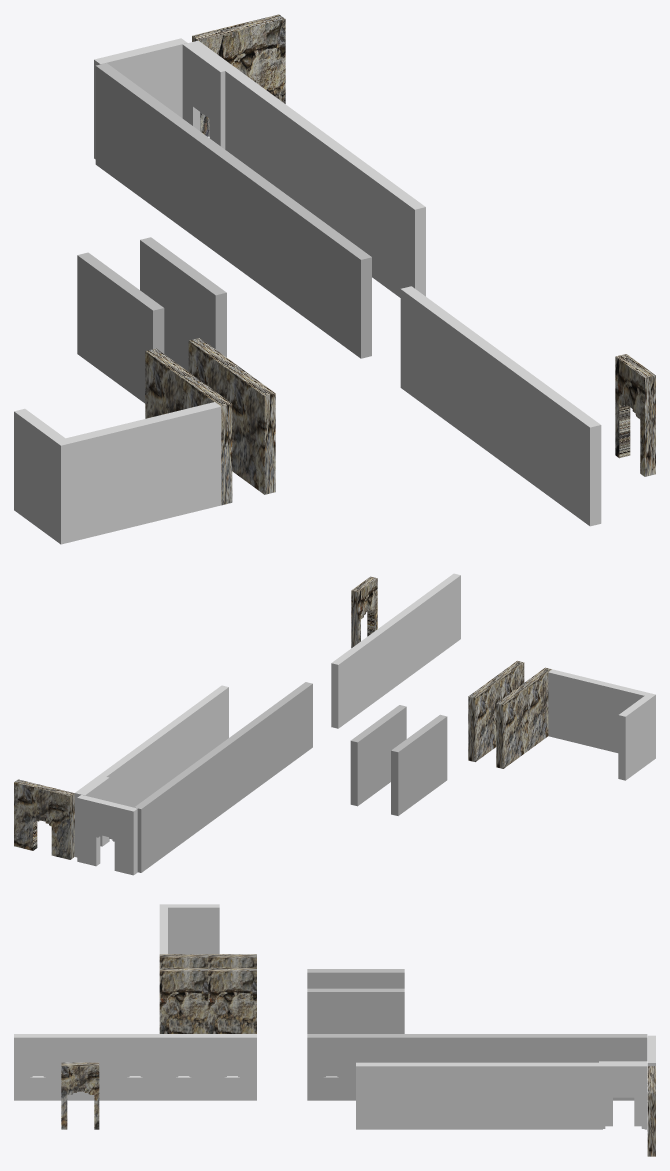
The model's file is mapp_strech_fix.fbx.
3 views of the same model, one above another, from view 1: azimuth 30°, elevation 25°; view 2: azimuth 150°, elevation 25°; view 3: azimuth 270°, elevation 25° (orthographic). The views are drawn at different scales.
Visible parts, largest first — view 1: Cube.014, Cube.024, Cube.011, Cube.044, Cube.029, Cube.018, Cube.019, Cube.049, Cube.017, Cube.013, Cube.027, Cube.045 (+6 smaller); view 2: Cube.014, Cube.024, Cube.011, Cube.044, Cube.027, Cube.017, Cube.029, Cube.028, Cube.018, Cube.049, Cube.019, Cube.045 (+6 smaller); view 3: Cube.011, Cube.024, Cube.014, Cube.019, Cube.018, Cube.049, Cube.013, Cube.029, Cube.045, Cube.028, Cube.094, Cube.017 (+1 smaller).
Boxes of the visible parts, bbox=[...] form: Cube.014: bbox=[95, 63, 371, 358]; Cube.024: bbox=[400, 286, 601, 526]; Cube.011: bbox=[225, 68, 425, 297]; Cube.044: bbox=[66, 402, 221, 541]; Cube.029: bbox=[77, 252, 163, 403]; Cube.018: bbox=[140, 237, 226, 371]; Cube.019: bbox=[188, 338, 274, 494]; Cube.049: bbox=[14, 408, 71, 544]; Cube.017: bbox=[192, 14, 285, 136]; Cube.013: bbox=[182, 40, 235, 149]; Cube.027: bbox=[94, 38, 187, 159]; Cube.045: bbox=[615, 354, 655, 476]; Cube.014: bbox=[134, 682, 312, 872]; Cube.024: bbox=[331, 573, 460, 728]; Cube.011: bbox=[100, 685, 228, 807]; Cube.044: bbox=[548, 669, 648, 752]; Cube.027: bbox=[77, 795, 137, 875]; Cube.017: bbox=[14, 779, 74, 859]; Cube.029: bbox=[391, 714, 447, 815]; Cube.028: bbox=[496, 667, 551, 768]; Cube.018: bbox=[351, 705, 406, 805]; Cube.049: bbox=[618, 693, 655, 780]; Cube.019: bbox=[468, 660, 524, 761]; Cube.045: bbox=[351, 576, 377, 647]; Cube.011: bbox=[356, 1062, 598, 1129]; Cube.024: bbox=[14, 1034, 256, 1100]; Cube.014: bbox=[307, 1034, 647, 1100]; Cube.019: bbox=[159, 967, 256, 1033]; Cube.018: bbox=[307, 988, 404, 1033]; Cube.049: bbox=[159, 904, 219, 954]; Cube.013: bbox=[599, 1061, 647, 1129]; Cube.029: bbox=[307, 969, 404, 988]; Cube.045: bbox=[61, 1062, 99, 1129]; Cube.028: bbox=[159, 954, 256, 967]; Cube.094: bbox=[30, 1063, 239, 1078]; Cube.017: bbox=[647, 1066, 655, 1156].
Bounding box in the file's own units: 3385 × 528 × 4851.
